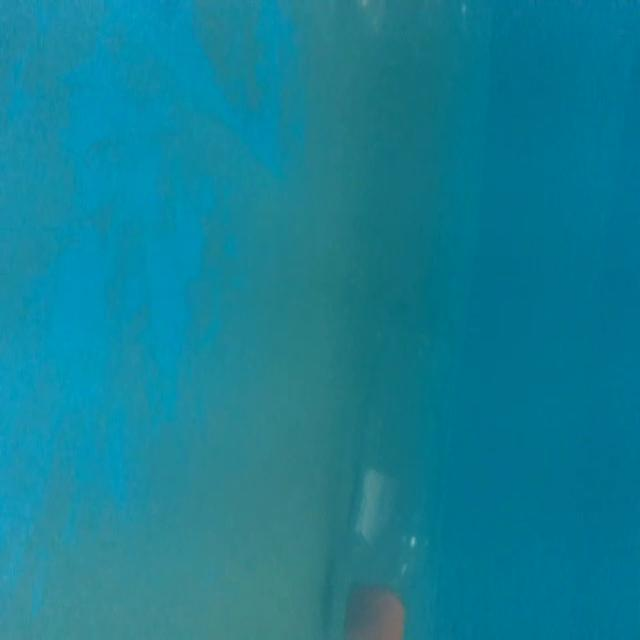plastic bottle: (328, 313, 453, 640)
